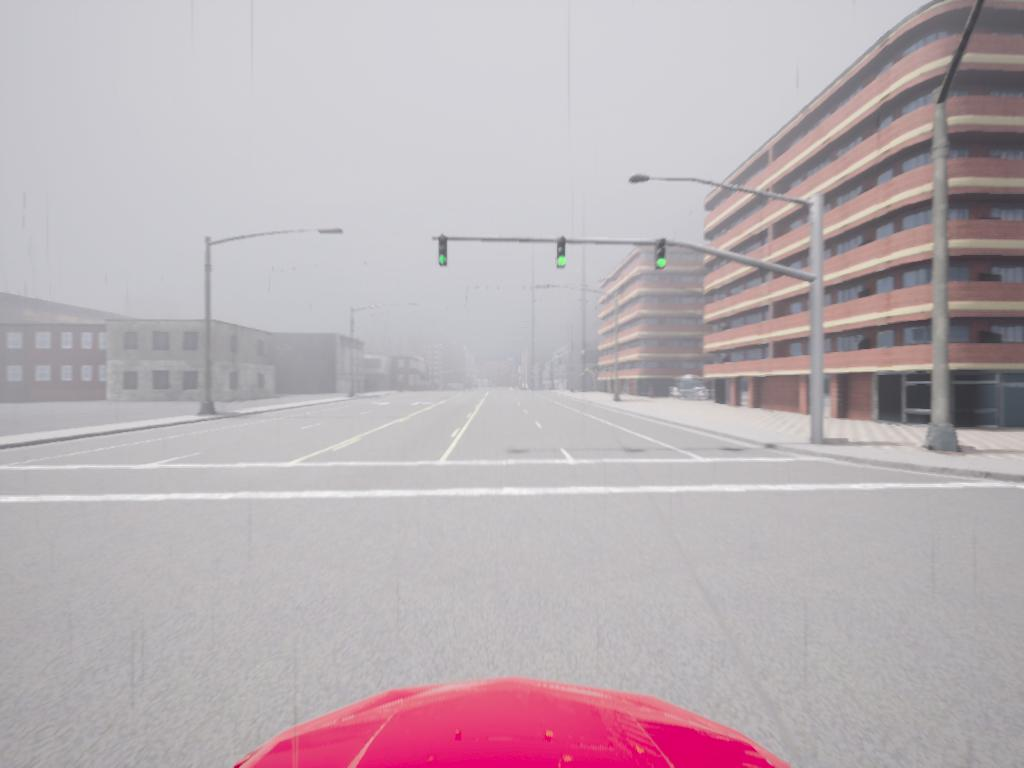traffic_light: (656, 241, 670, 270), (557, 239, 570, 269), (437, 237, 449, 266)
